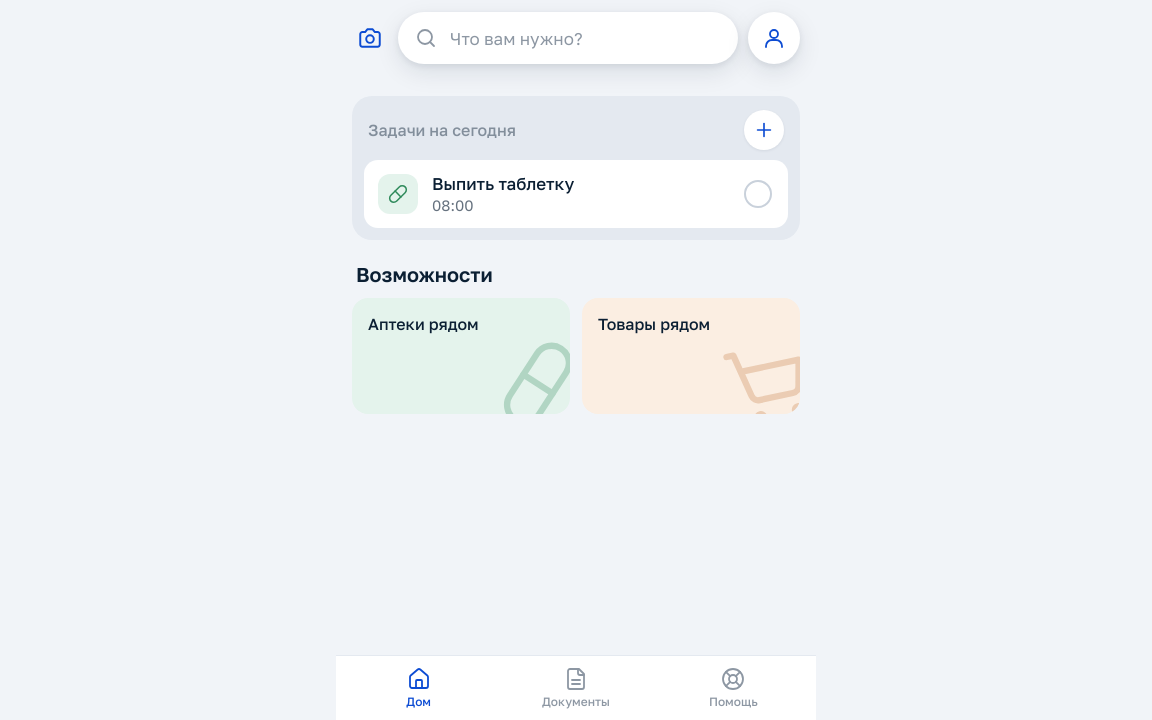
Test: App › кнопка профиля на главной
Click the button named "Профиль".
click(774, 38)  # box [748,12,800,64]
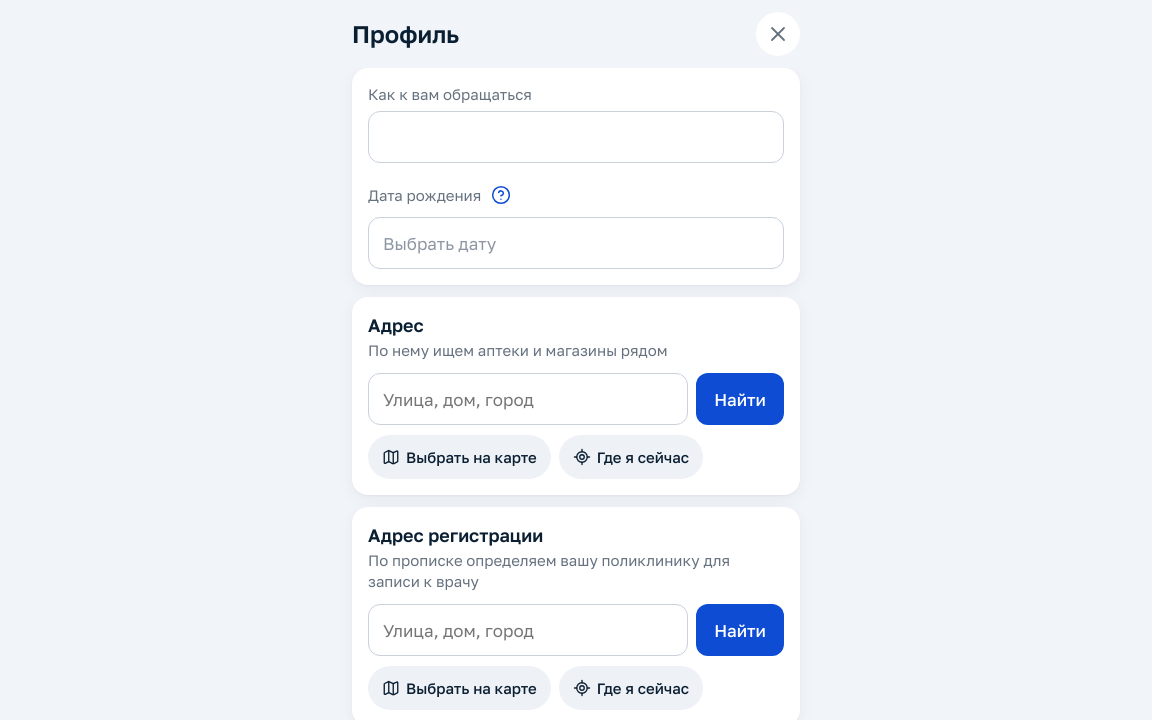
Now the dialog "Профиль" is shown
Click the button named "Закрыть".
click(778, 34)  # box [756,12,800,56]
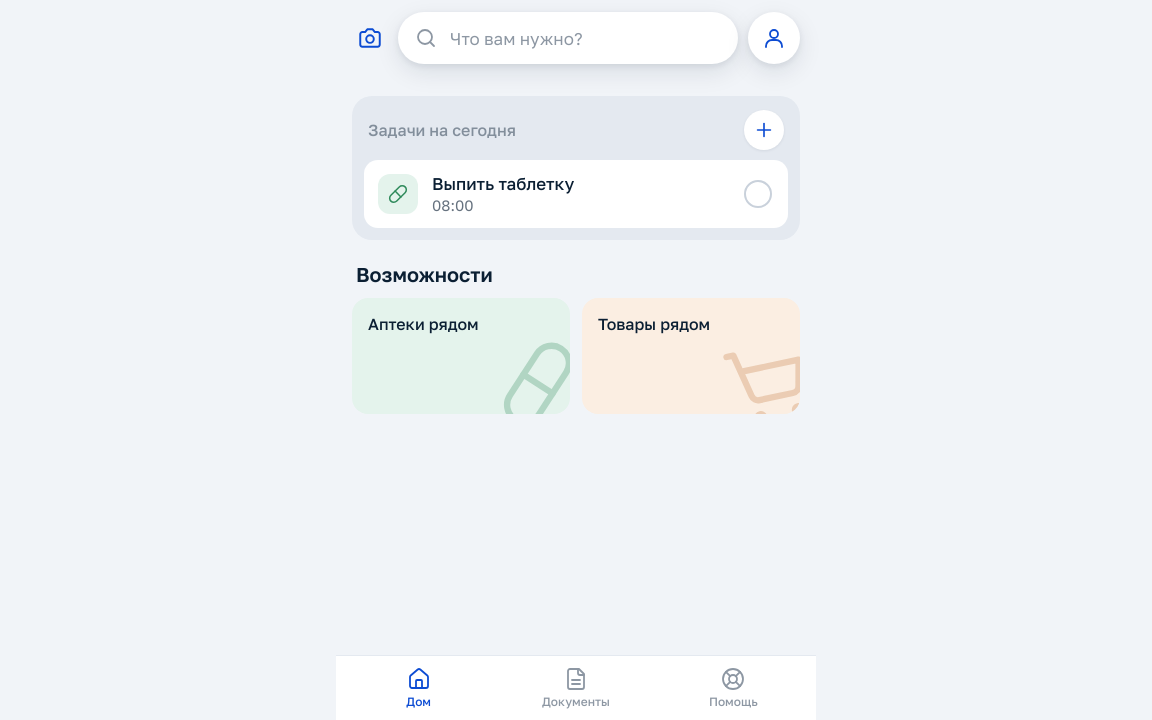
Now the heading "Профиль" is gone
